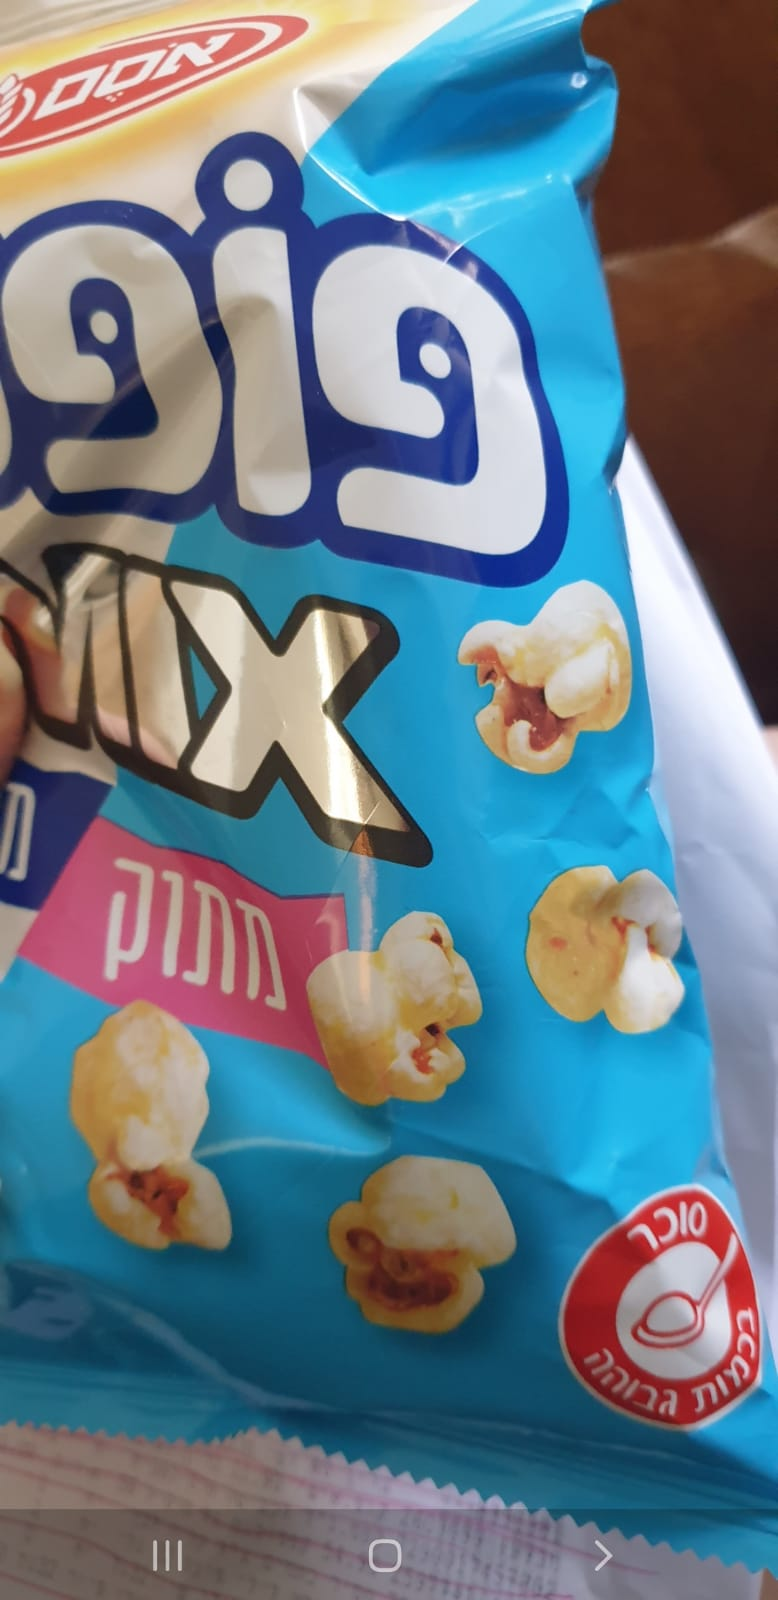sugar: (560, 1185, 766, 1433)
